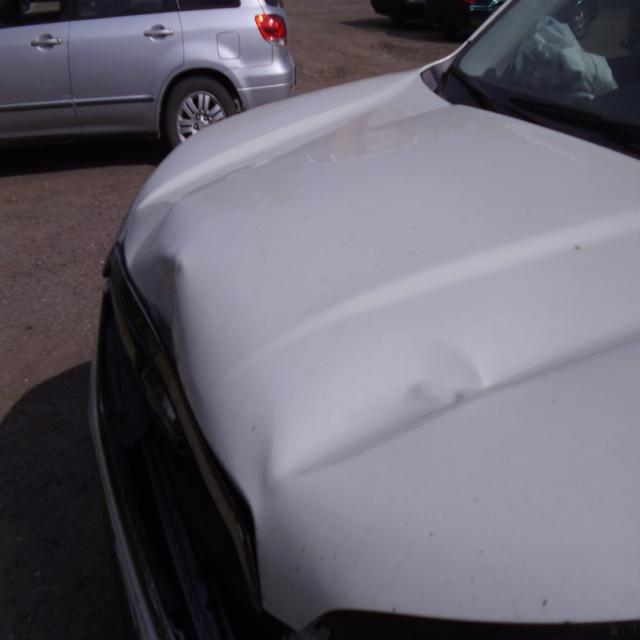Cabossage: (239, 352, 504, 494), (121, 170, 188, 344)
